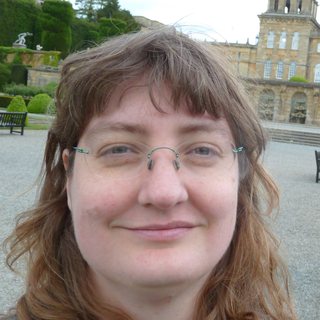eye: (93, 138, 146, 165), (177, 136, 226, 164)
